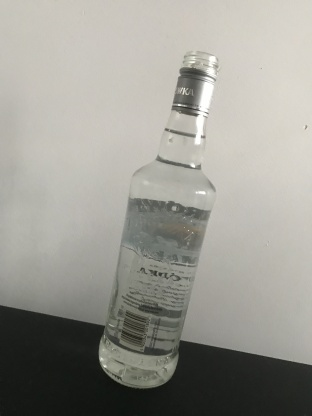nakretka: (169, 50, 219, 120)
